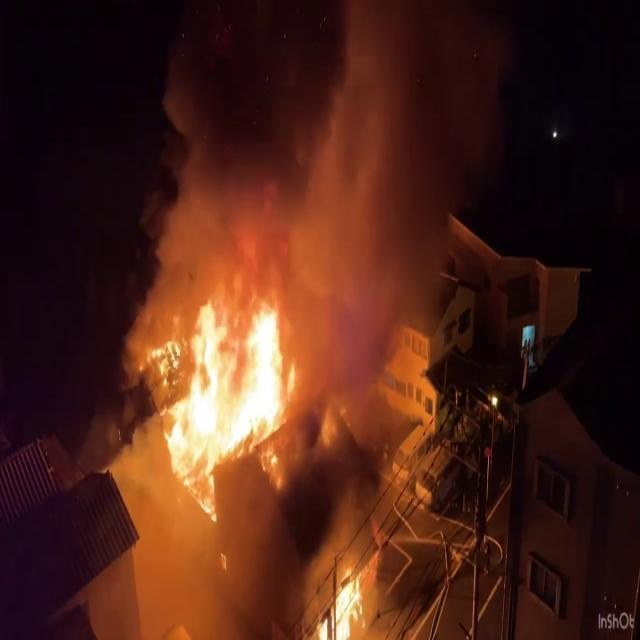Fire: (150, 266, 302, 520), (308, 558, 370, 640)
Smoke: (128, 5, 466, 315)
